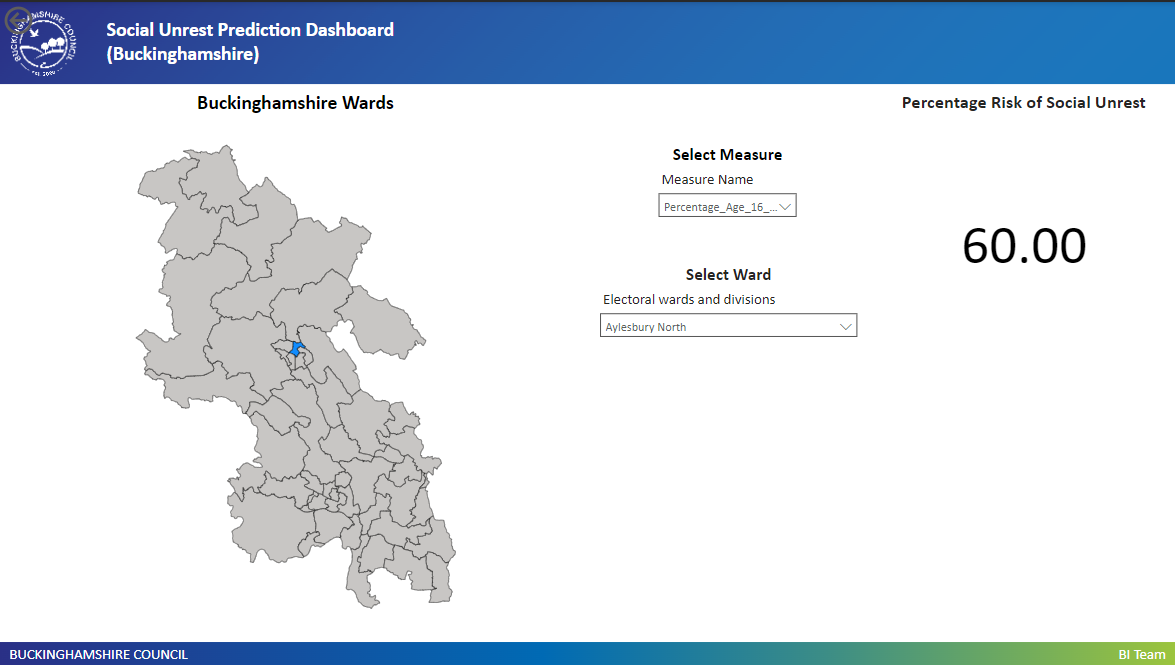

This screenshot's page, from the dashboard's own definition file:
{"tool":"powerbi","page":{"name":"BI teams","canvas":[1280,720],"ordinal":0},"visuals":[{"type":"textbox","box":[110.6,11.4,396.9,73.2],"z":0},{"type":"image","box":[3,4.4,88.6,80.5],"z":1000},{"type":"actionButton","box":[0,0,100,40],"z":2000},{"type":"card","title":"Percentage Risk of Social Unrest","fields":{"Values":["Social Unrest (Buckinghamshire).Social_Unrest_Percentage"]},"box":[939.4,95.9,340.3,297.2],"z":3000},{"type":"slicer","title":"Select Measure","fields":{"Values":["Measure_Selector.Measure Name"]},"box":[704.6,153.4,169.4,99.1],"z":4000},{"type":"shapeMap","title":"Buckinghamshire Wards","fields":{"Category":["Social Unrest (Buckinghamshire).Electoral wards and divisions"],"Value":["Social Unrest (Buckinghamshire).Selected_Measure"]},"box":[0,95.9,640.7,594.3],"z":5000},{"type":"slicer","title":"Select Ward","fields":{"Values":["Social Unrest (Buckinghamshire).Electoral wards and divisions"]},"box":[640.7,282.8,298.8,110.2],"z":6000}]}

Visuals, with their boxes in screenshot pixels (x1, y1, x2, y2), scaled from the page's 1280x720 canvas onto the 1175x665 screenshot:
textbox: l=102, t=11, r=466, b=78
image: l=3, t=4, r=84, b=78
actionButton: l=0, t=0, r=92, b=37
"Percentage Risk of Social Unrest" card: l=862, t=89, r=1174, b=363
"Select Measure" slicer: l=647, t=142, r=802, b=233
"Buckinghamshire Wards" shapeMap: l=0, t=89, r=588, b=637
"Select Ward" slicer: l=588, t=261, r=862, b=363
